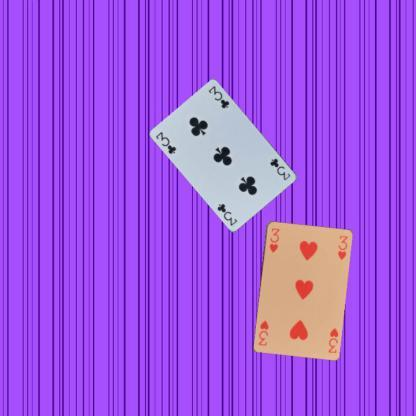3c: (153, 128, 177, 156), (267, 156, 292, 182)
3h: (266, 225, 281, 254), (325, 325, 340, 354)
